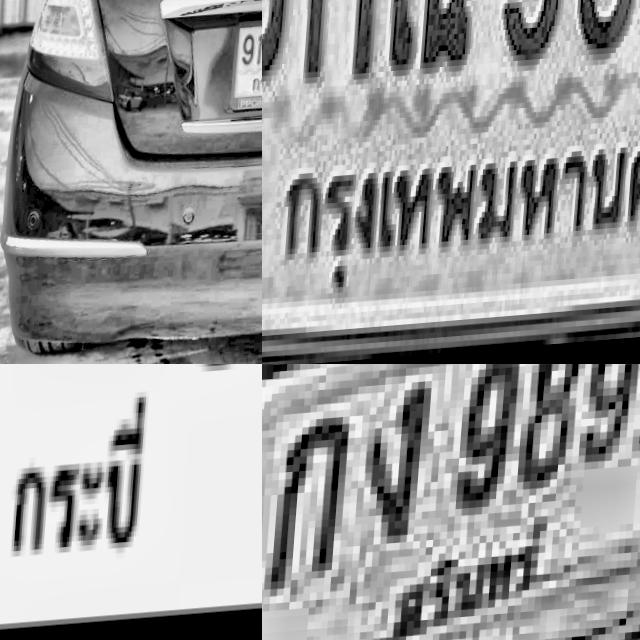license-plate: (262, 0, 640, 360), (262, 364, 640, 640), (0, 364, 262, 640), (233, 16, 262, 121)
